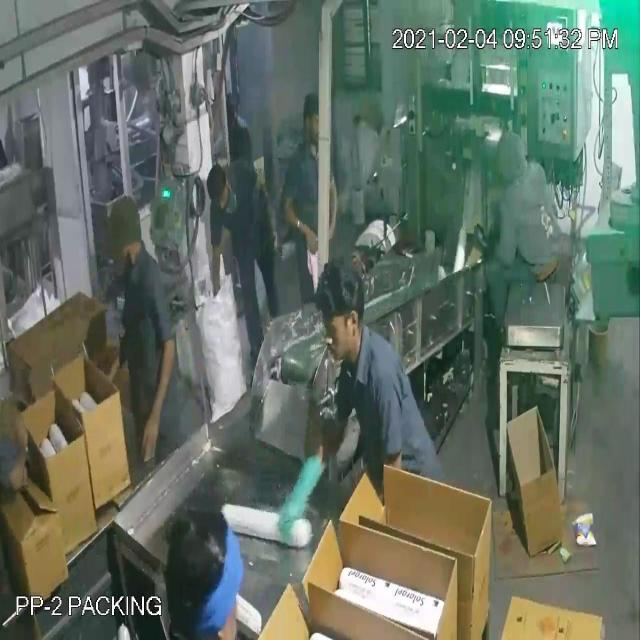No_Gloves: (27, 73, 332, 494)
